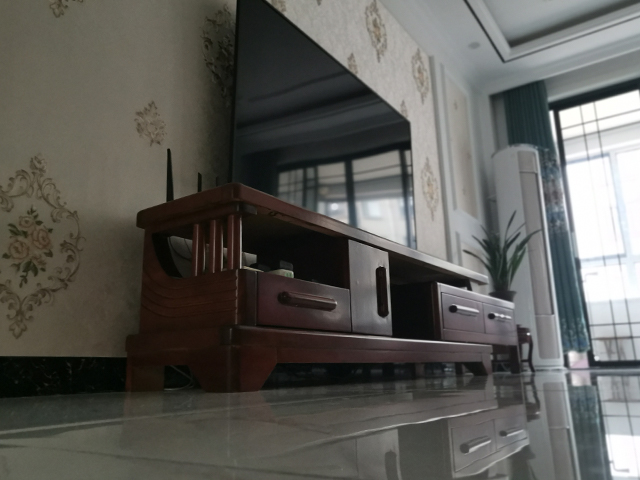cabinet: (120, 179, 526, 395)
curtain: (499, 78, 589, 355)
stool: (506, 325, 539, 371)
wire: (160, 365, 197, 393)
